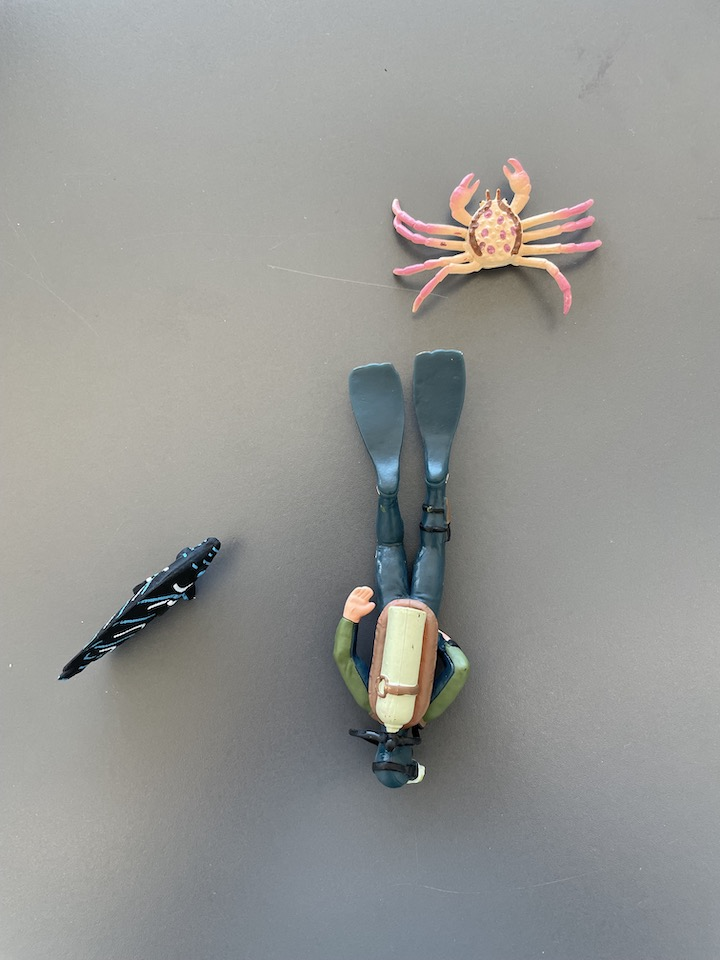crab: (391, 156, 603, 319)
diver: (331, 348, 472, 795)
fish: (56, 531, 224, 686)
